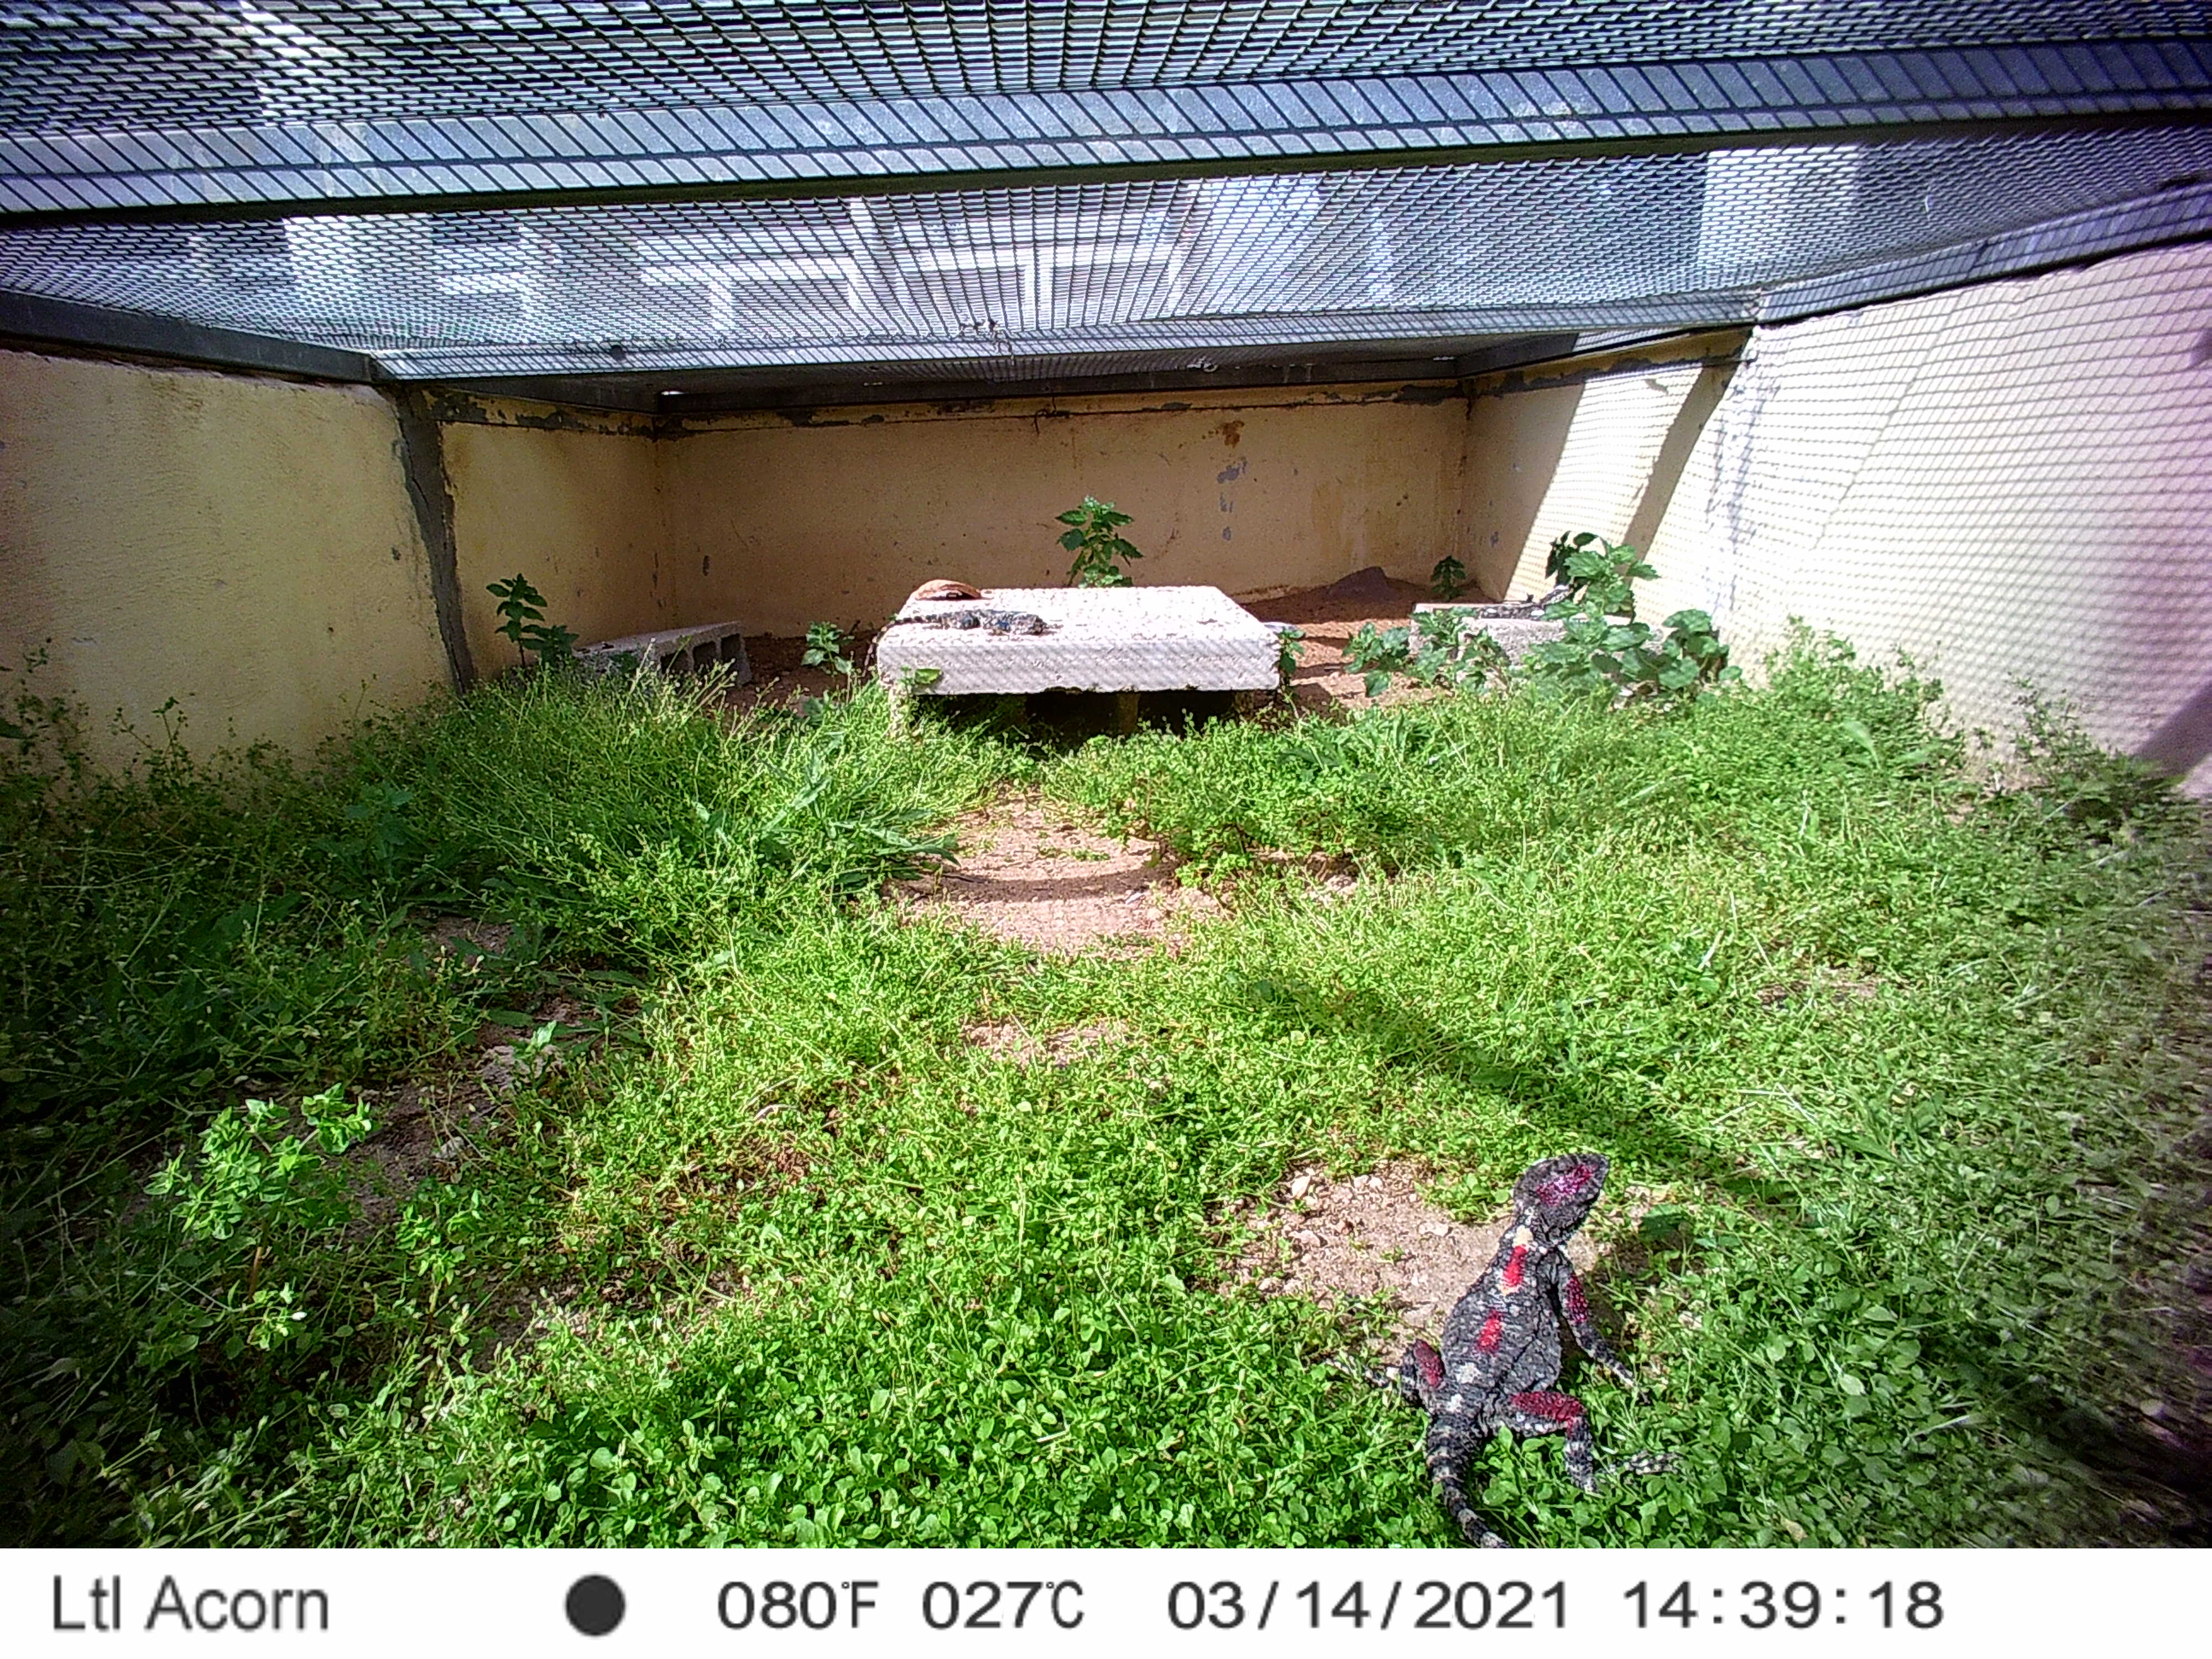lizard: (1324, 1154, 1674, 1544), (853, 608, 1061, 678), (1393, 579, 1578, 633)
